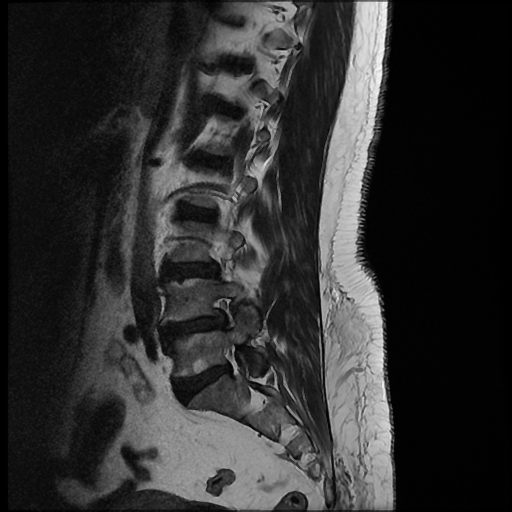RFS1: (199, 288, 250, 338)
